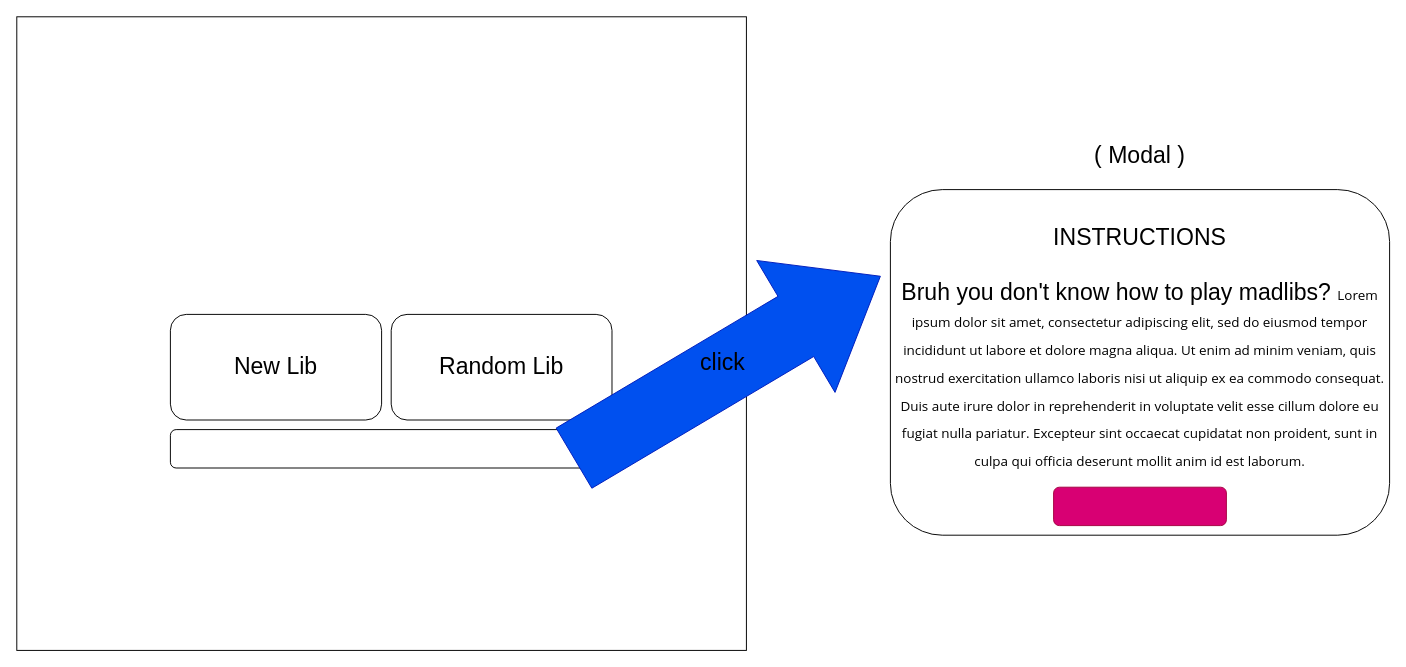
The diagram is 1406 pixels wide and 667 high, and some of its shapes have lost their labels. Each missing label, with the centre of its shape:
Instructions: point 390,448
OK SENOR: point 1139,506
